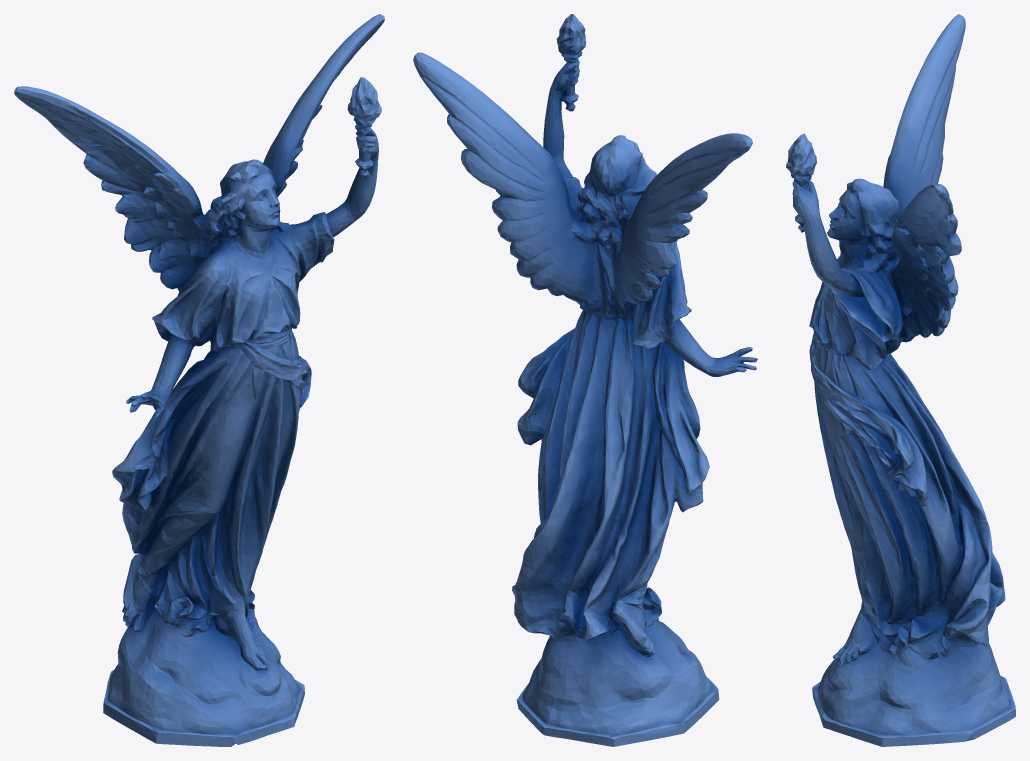
Rendered from lucy25KC.obj.
3 views of the same model, side by side, from view 1: azimuth 30°, elevation 25°; view 2: azimuth 150°, elevation 25°; view 3: azimuth 270°, elevation 25° (orthographic). The views are drawn at different scales.
Size of the model in its own units: 931 by 1591 by 534.
